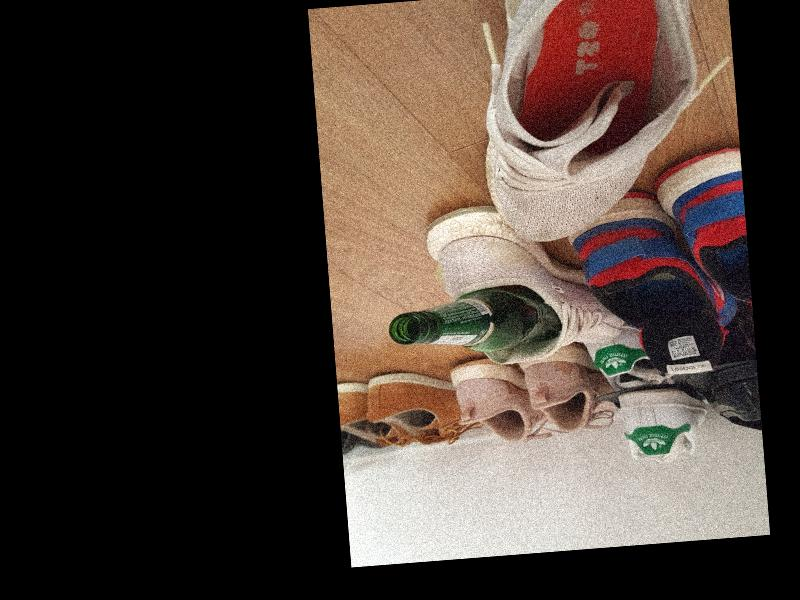Beer: (386, 282, 562, 357)
